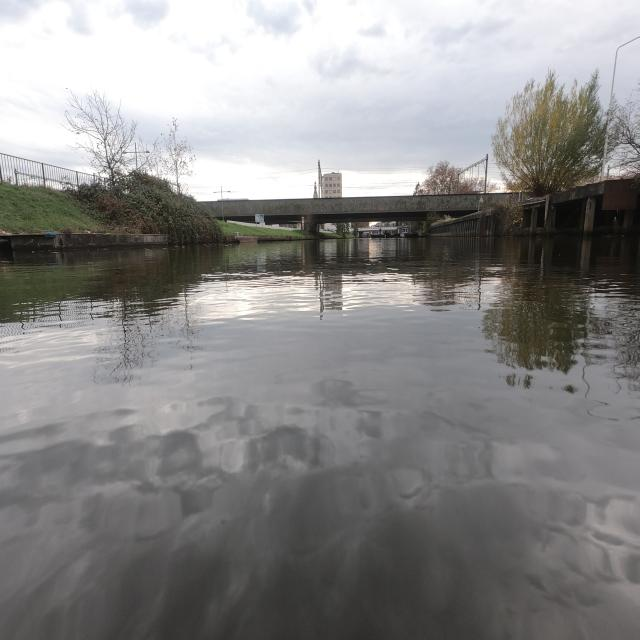dock: (0, 233, 168, 252), (237, 236, 258, 244)
grass: (0, 184, 105, 233), (218, 220, 311, 240)
wall: (430, 210, 496, 237)
water: (0, 238, 640, 640)
